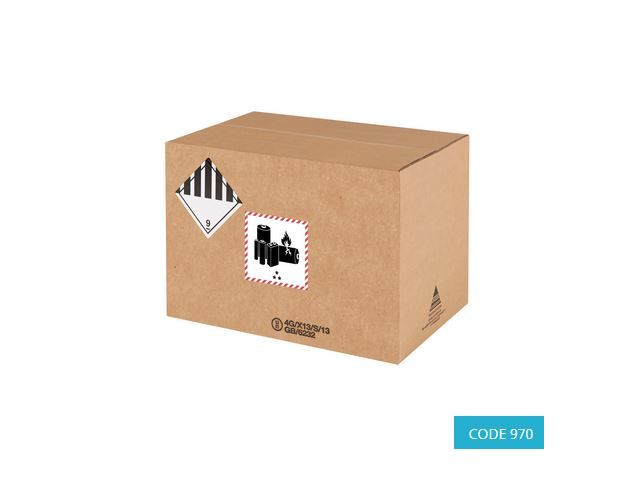Parcel: (165, 140, 400, 365), (166, 110, 470, 171), (399, 134, 469, 363)
